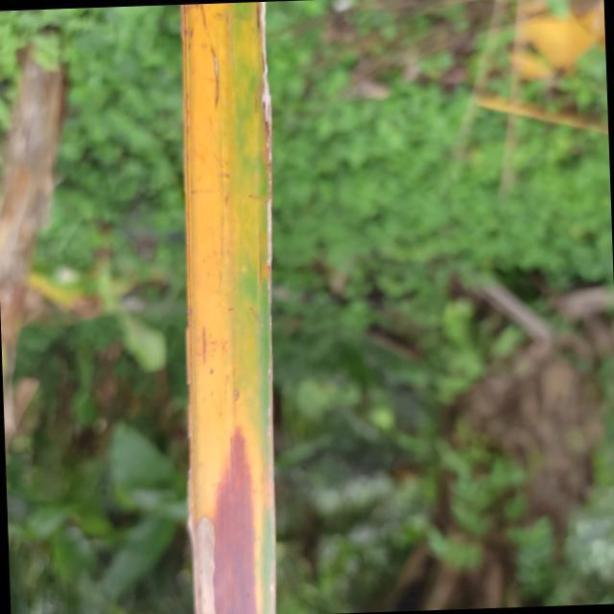Megnesium: (177, 1, 274, 614)
